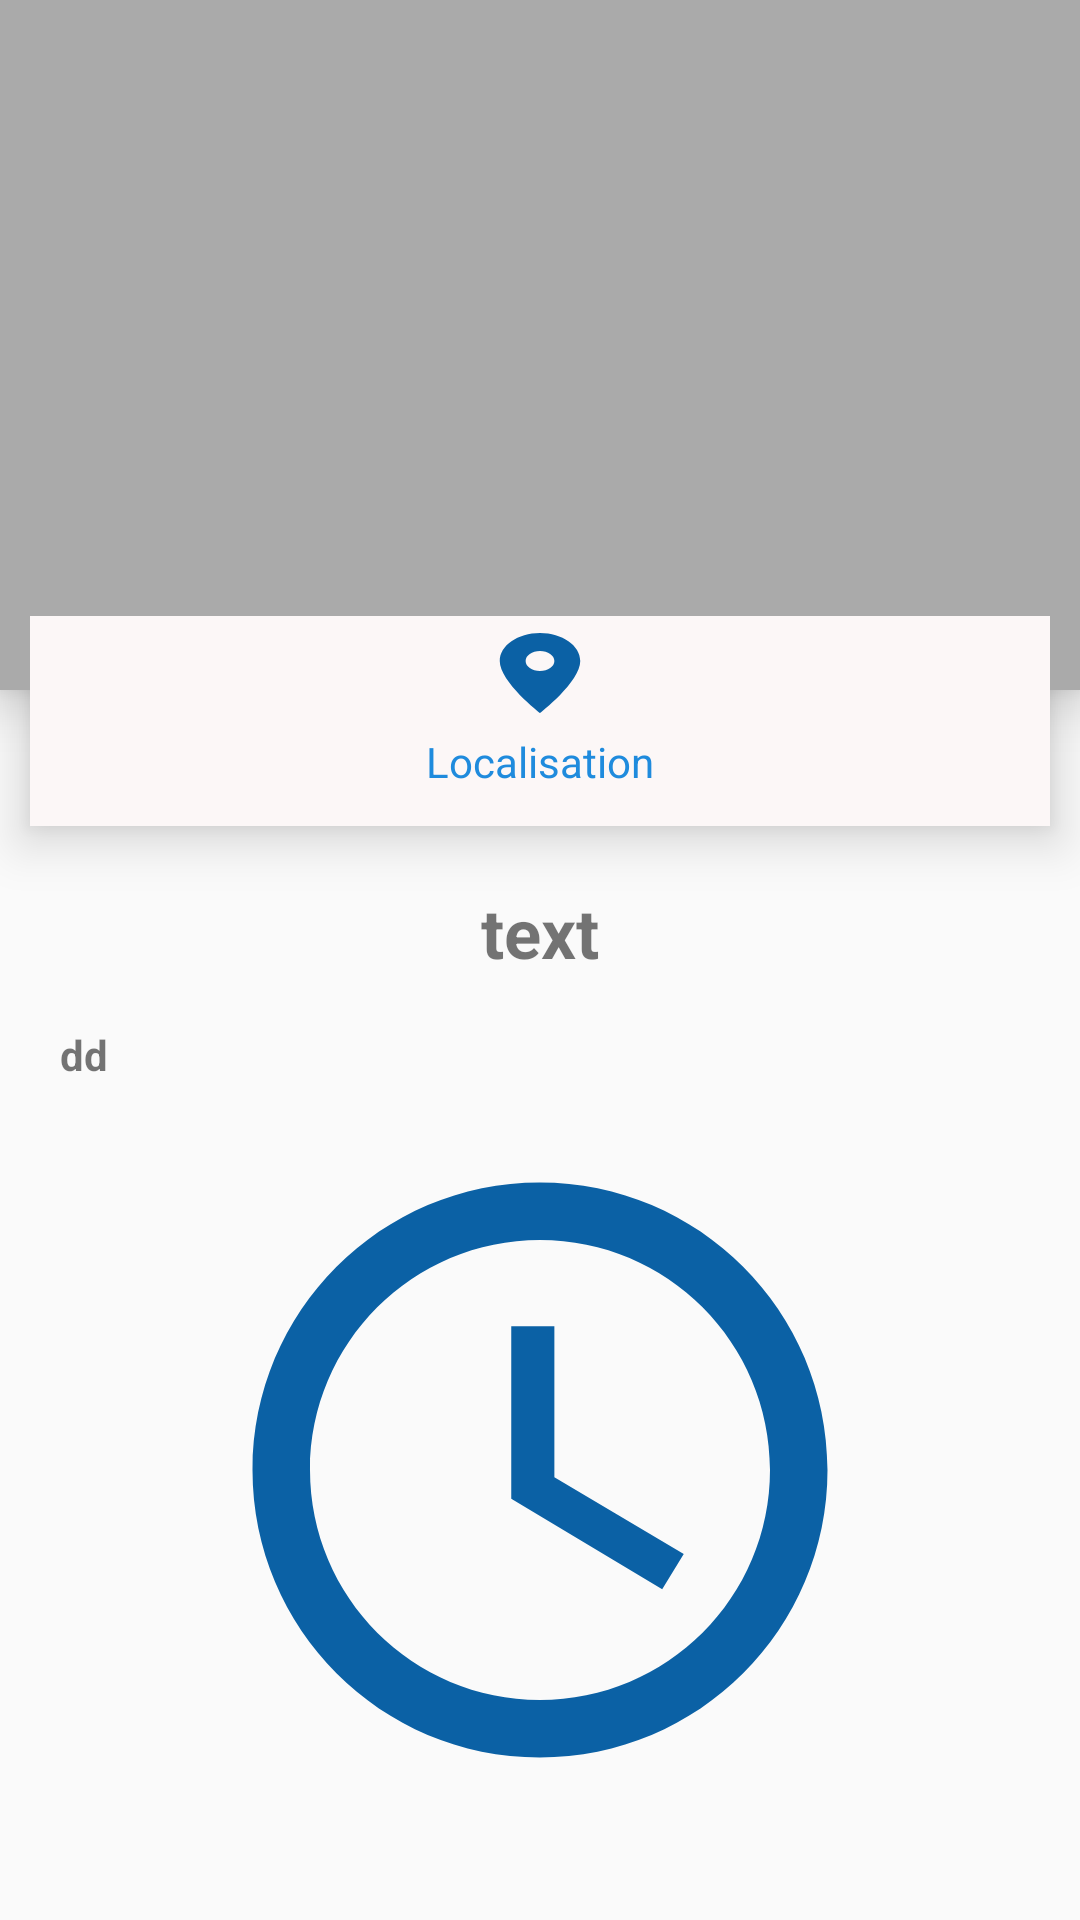

Where to tap for icons on this 1080*1920 app screen, as [x,y]:
place: [540,673]
